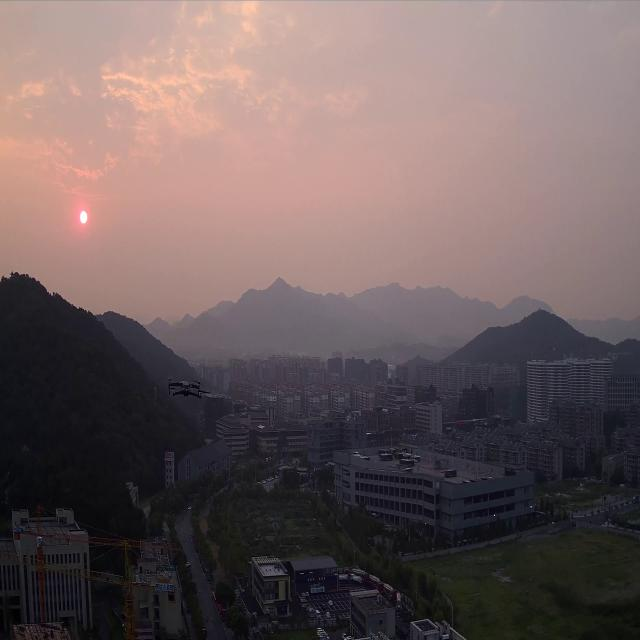UAV: (166, 376, 213, 402)
